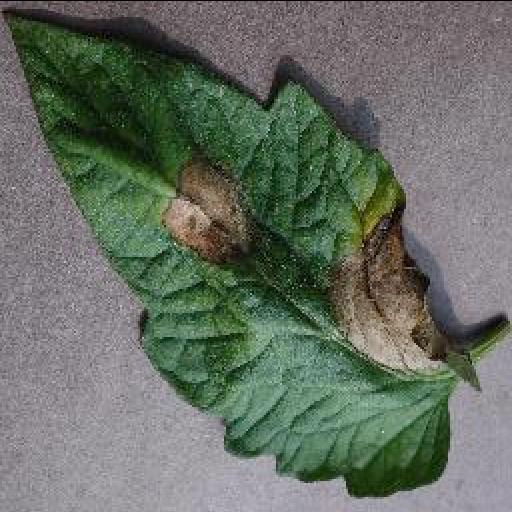disease_tomato: (2, 10, 474, 498)
